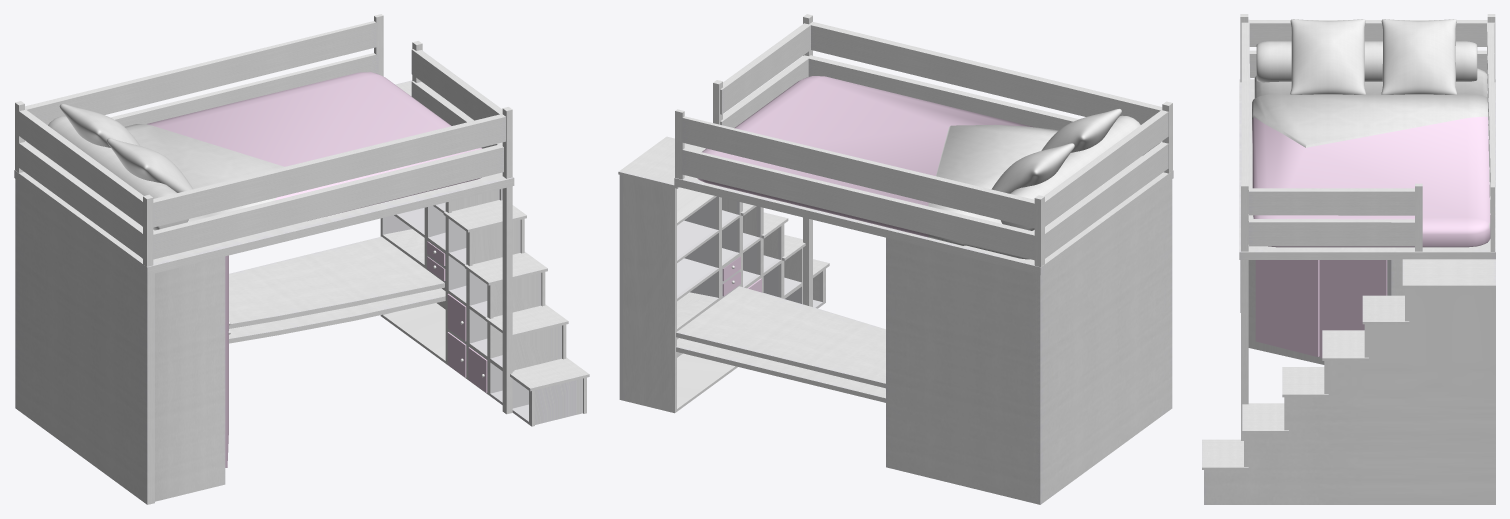
Rendered from sweethome3d-contributions-mezzanine-bed.glb.
3 views of the same model, side by side, from view 1: azimuth 30°, elevation 25°; view 2: azimuth 150°, elevation 25°; view 3: azimuth 270°, elevation 25° (orthographic). The views are drawn at different scales.
Visible parts, largest first — view 1: 11_11, 12_12, 3_3, 16_16, 1_1, 7_7, 8_8, 2_2, 17_17, 9_9, 15_15, 19_19 (+6 smaller); view 2: 11_11, 12_12, 16_16, 1_1, 19_19, 17_17, 8_8, 9_9, 2_2, 15_15, 7_7, 10_10 (+4 smaller); view 3: 12_12, 16_16, 20_20, 15_15, 10_10, 2_2, 4_4, 5_5, 18_18, 9_9, 8_8, 3_3 (+5 smaller).
Part boxes in pixels (bbox=[...]): 11_11: bbox=[14, 170, 154, 504]; 12_12: bbox=[380, 80, 589, 426]; 3_3: bbox=[155, 256, 225, 501]; 16_16: bbox=[147, 72, 481, 216]; 1_1: bbox=[229, 236, 444, 328]; 7_7: bbox=[15, 101, 503, 259]; 8_8: bbox=[142, 114, 505, 227]; 2_2: bbox=[15, 107, 514, 414]; 17_17: bbox=[25, 21, 376, 125]; 9_9: bbox=[19, 109, 143, 257]; 15_15: bbox=[41, 124, 284, 230]; 19_19: bbox=[25, 53, 378, 151]; 11_11: bbox=[886, 101, 1173, 504]; 12_12: bbox=[618, 136, 829, 413]; 16_16: bbox=[697, 76, 1033, 237]; 1_1: bbox=[676, 286, 885, 388]; 19_19: bbox=[682, 148, 1034, 259]; 17_17: bbox=[682, 116, 1034, 227]; 8_8: bbox=[807, 22, 1168, 136]; 9_9: bbox=[1034, 110, 1167, 260]; 2_2: bbox=[674, 14, 1168, 306]; 15_15: bbox=[928, 124, 1141, 259]; 7_7: bbox=[805, 55, 1168, 266]; 10_10: bbox=[720, 23, 810, 127]; 12_12: bbox=[1202, 259, 1495, 504]; 16_16: bbox=[1252, 116, 1490, 247]; 20_20: bbox=[1290, 19, 1457, 94]; 15_15: bbox=[1252, 68, 1490, 228]; 10_10: bbox=[1249, 188, 1414, 246]; 2_2: bbox=[1239, 79, 1495, 440]; 4_4: bbox=[1255, 260, 1319, 356]; 5_5: bbox=[1319, 260, 1387, 357]; 18_18: bbox=[1256, 41, 1477, 82]; 9_9: bbox=[1248, 20, 1494, 77]; 8_8: bbox=[1241, 19, 1249, 213]; 3_3: bbox=[1248, 260, 1391, 364].
Size of the model in its own units: 296 by 210 by 185.
Materials: 4 (4 with a texture image).
